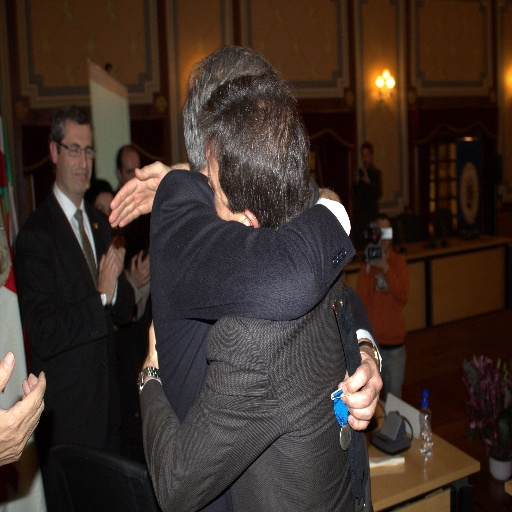hand: (0, 350, 47, 466), (107, 161, 172, 231), (335, 342, 383, 434), (98, 247, 119, 305), (131, 252, 150, 291), (145, 321, 160, 370), (370, 253, 387, 268), (137, 254, 150, 266), (364, 243, 372, 260)
